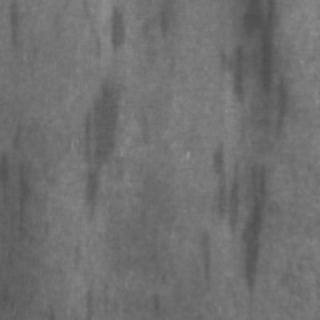inclusion: (208, 137, 278, 306), (224, 1, 288, 138), (78, 68, 128, 224), (2, 117, 40, 235), (99, 0, 129, 56), (194, 224, 218, 290), (2, 1, 24, 44)
